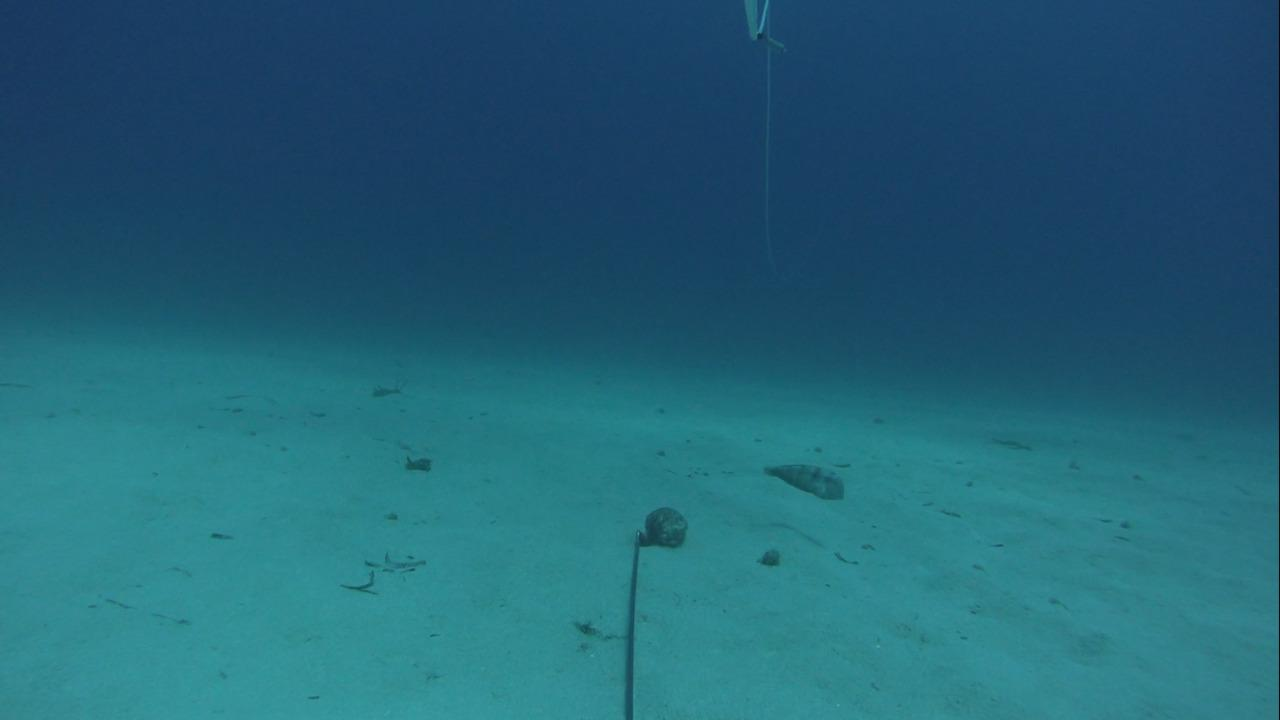raor: (755, 454, 850, 505)
